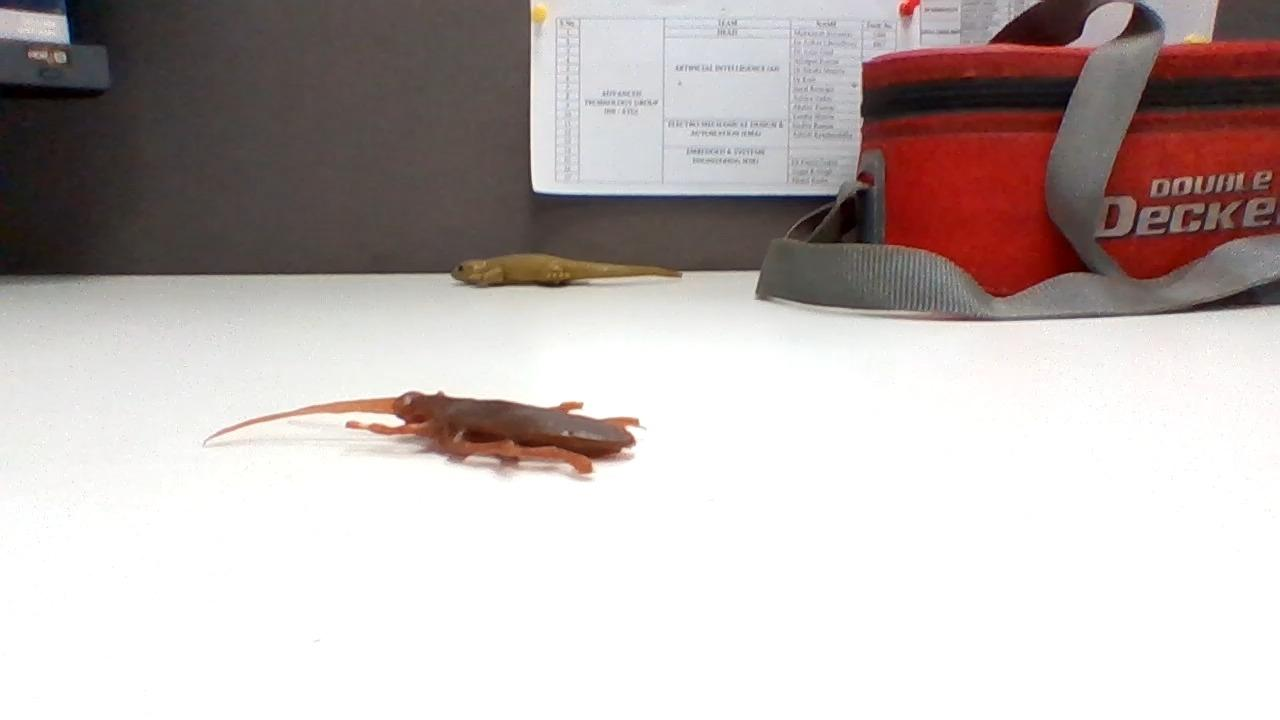cockroach: (186, 387, 647, 477)
lizard: (443, 242, 684, 284)
